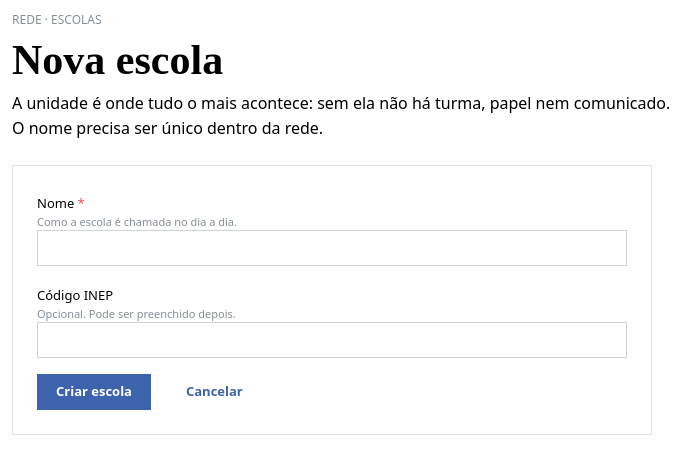
SchoolForm › a refusal naming a field lands next to that field
The image size is (687, 467).
Type "Escola Central" into the field labelled "Nome". click: (332, 248)
box: [37,230,627,266]
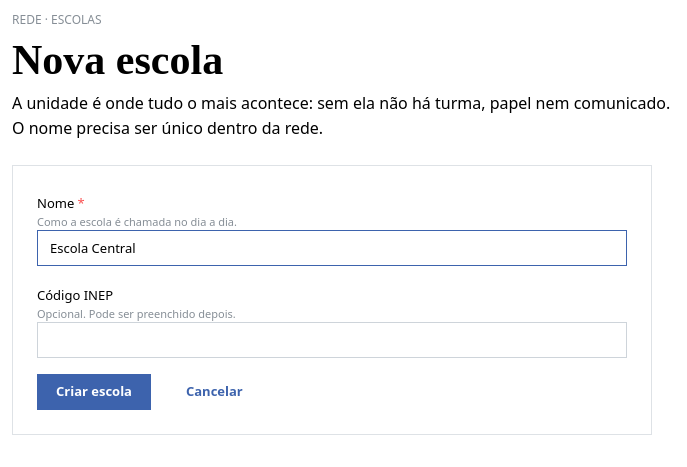
Click the button "Criar escola". click: (94, 392)
box: [37,374,151,410]
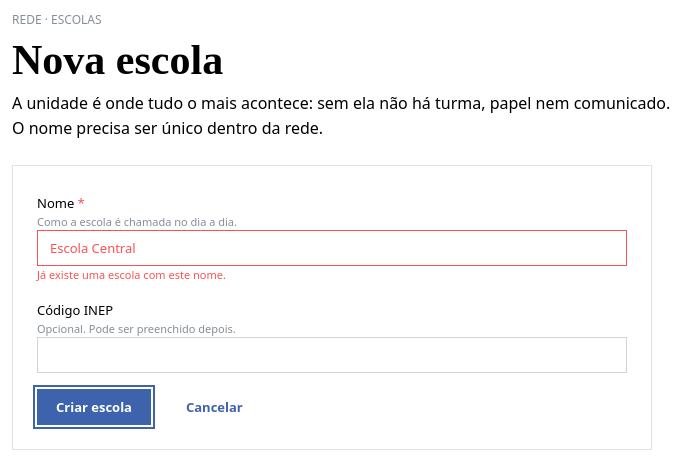
Now the text "Já existe uma escola com este nome." is shown, box [37,267,226,282]
